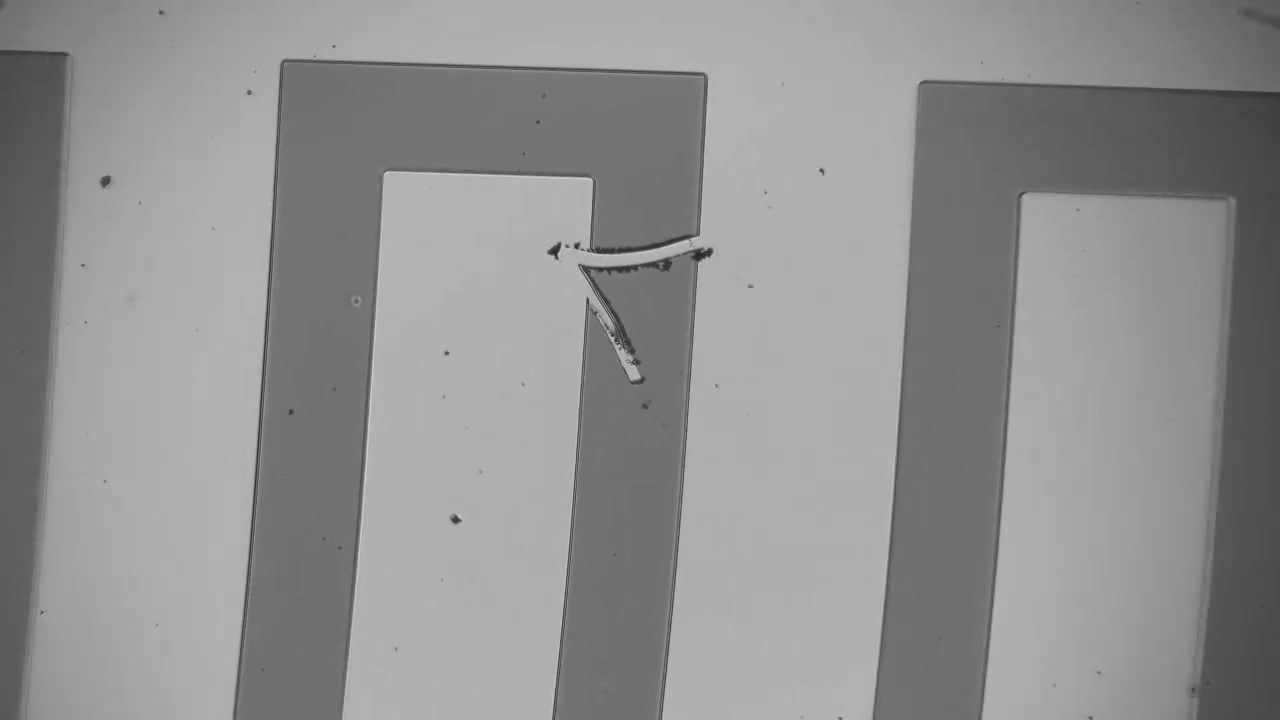Short_circuit: (559, 214, 718, 296)
